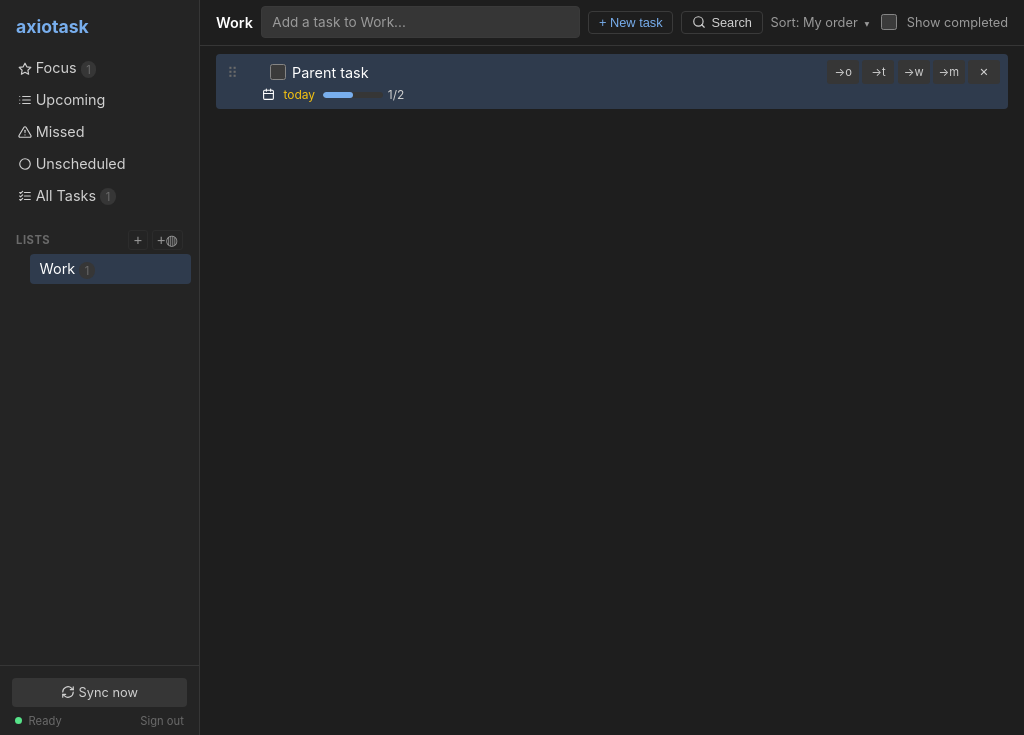
Scenario: Top-level-only list (one-level subtasks, #82) › Subtasks visible in detail panel › shows subtask checklist when detail panel opens for a parent task
// Click the task to open detail panel
Click the text "Parent task" at (330, 72), box [292,64,369,81]
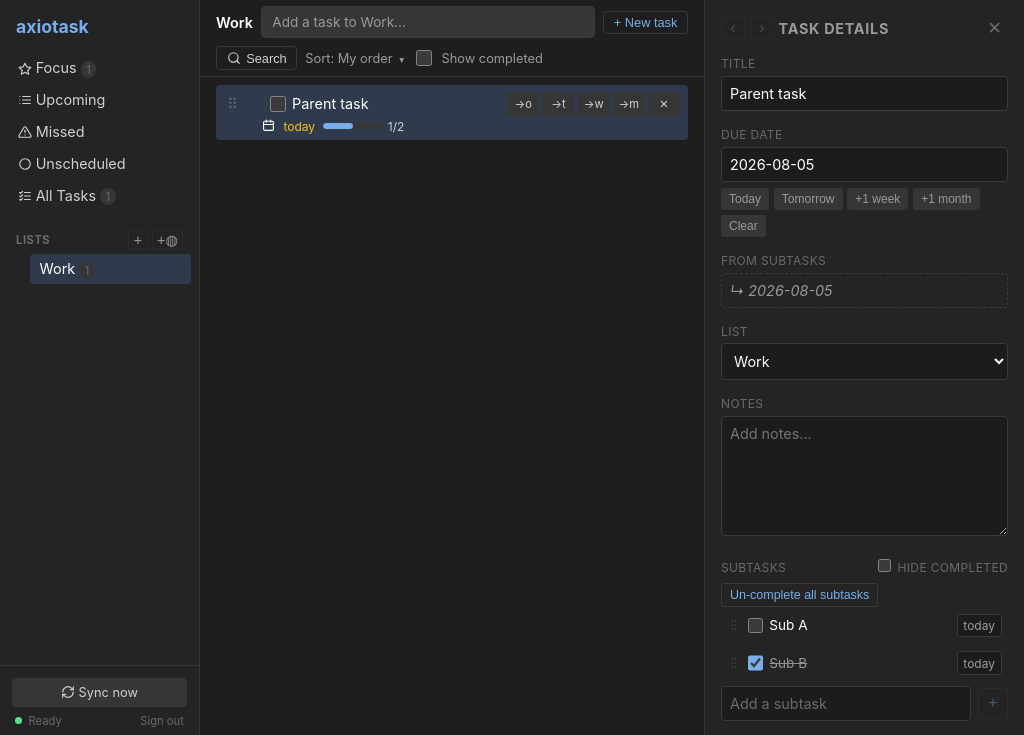
expect the text "Subtasks" is shown: met, box [721,560,786,575]
